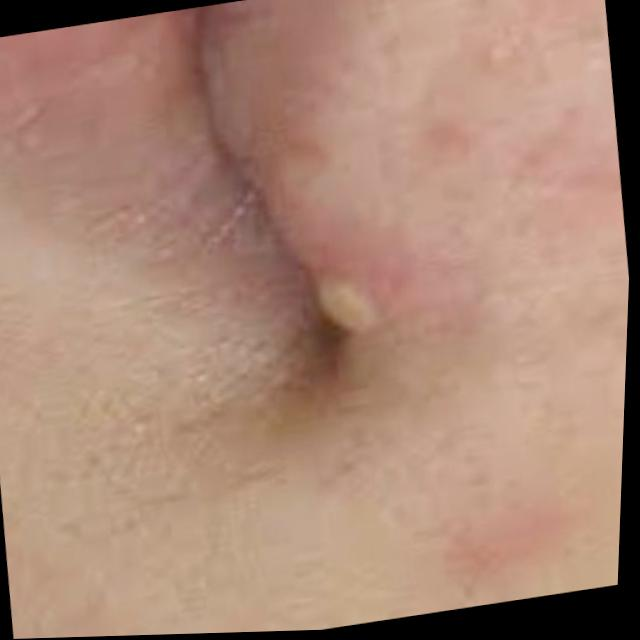pustule: (289, 244, 421, 361)
